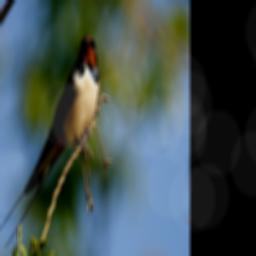Swallow: (0, 34, 99, 250)
